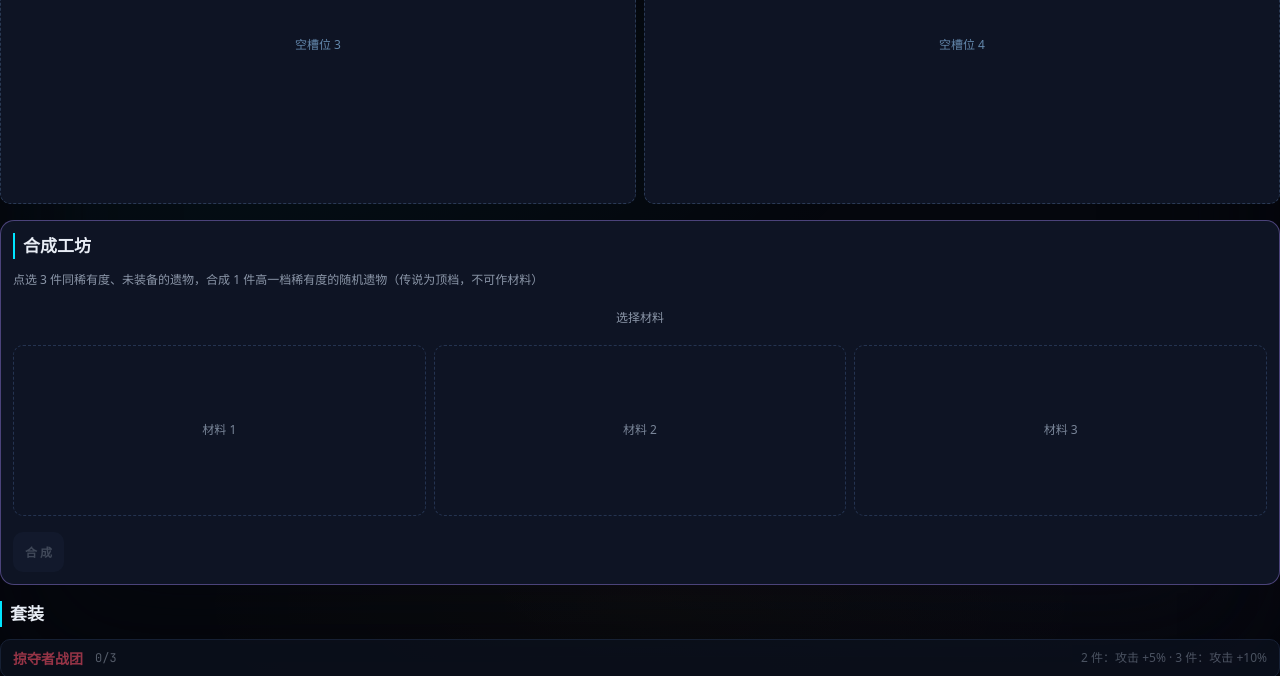
Test: RelicView — 合成工坊 › 稀有度混选被 toast 拒绝
(page scrolled)
Click the button with test id "select-mode-button" at (640, 316), box [13, 296, 1267, 336]
(page scrolled)
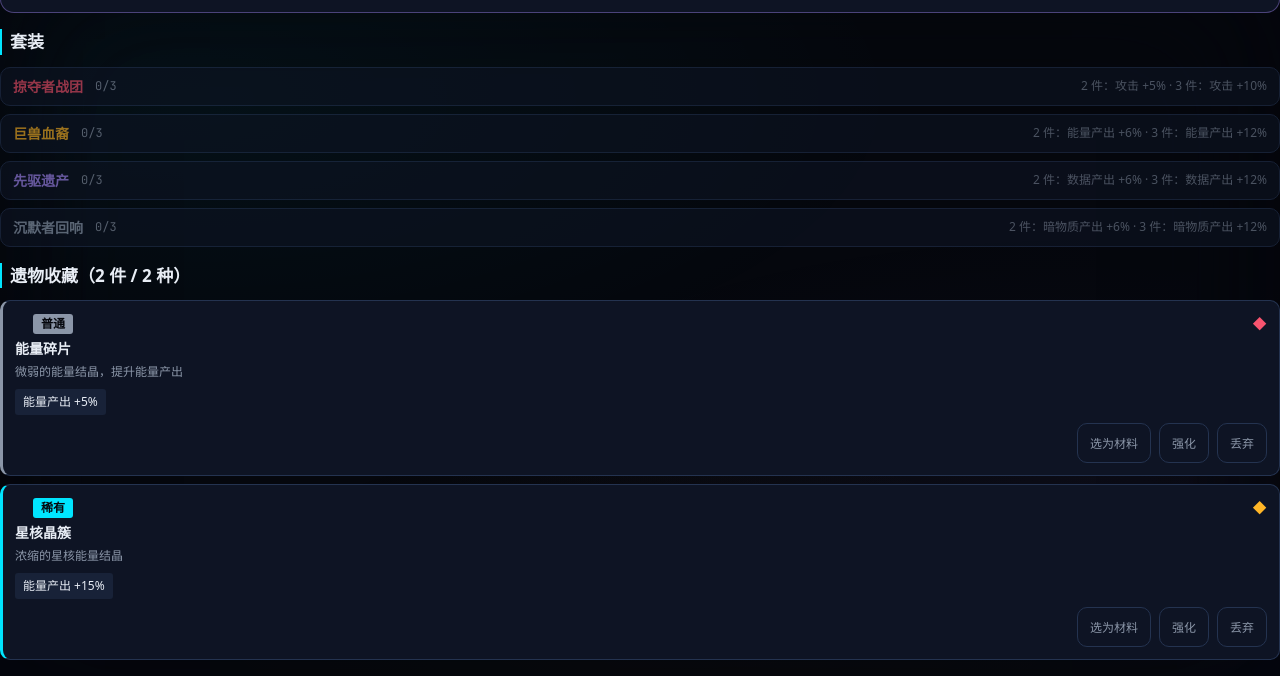
Click the 1st button with test id "select-material-button" at (1114, 443), box [1077, 423, 1151, 463]
(page scrolled)
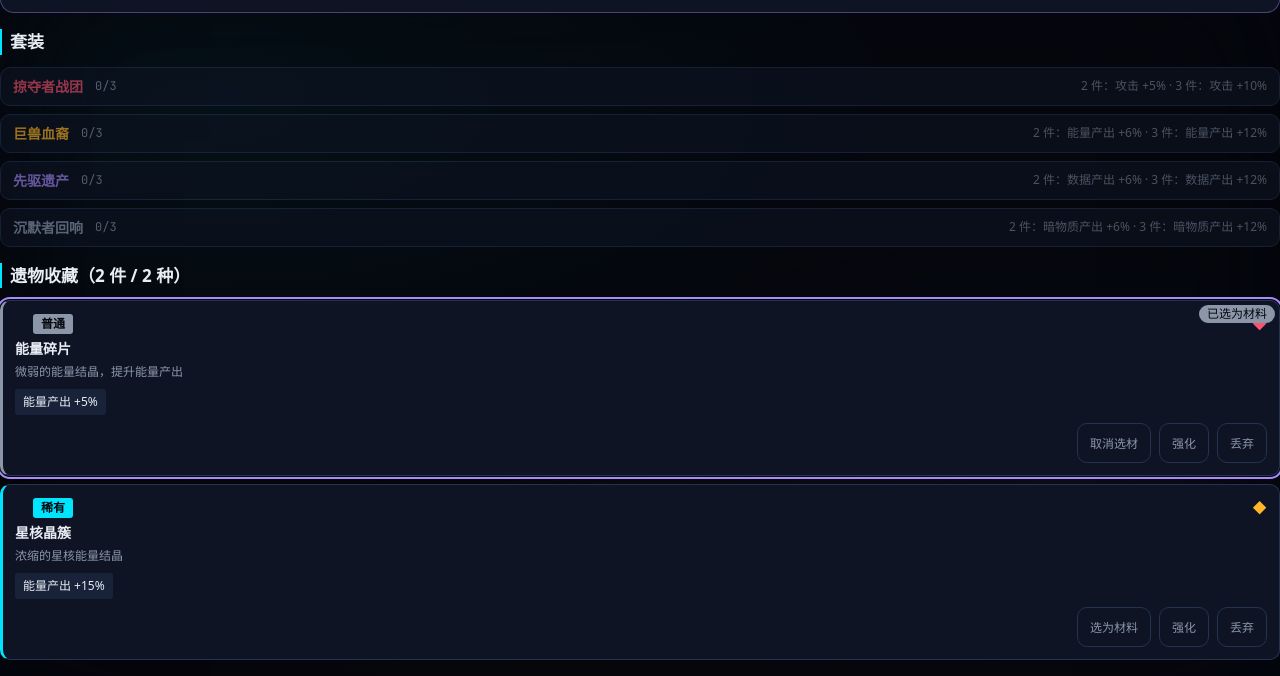
Click the button with test id "select-material-button" showing "选为材料" at (1114, 627), box [1077, 607, 1151, 647]
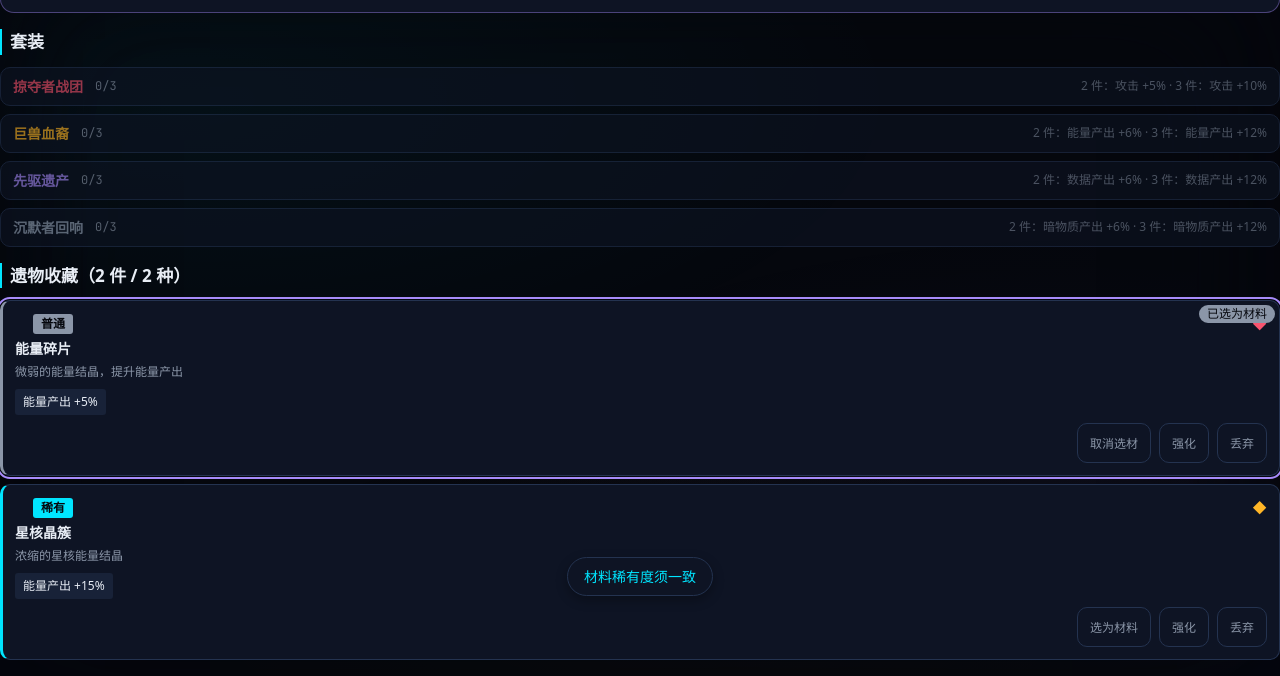
Now the text "材料稀有度须一致" is shown, box [567, 557, 713, 596]
